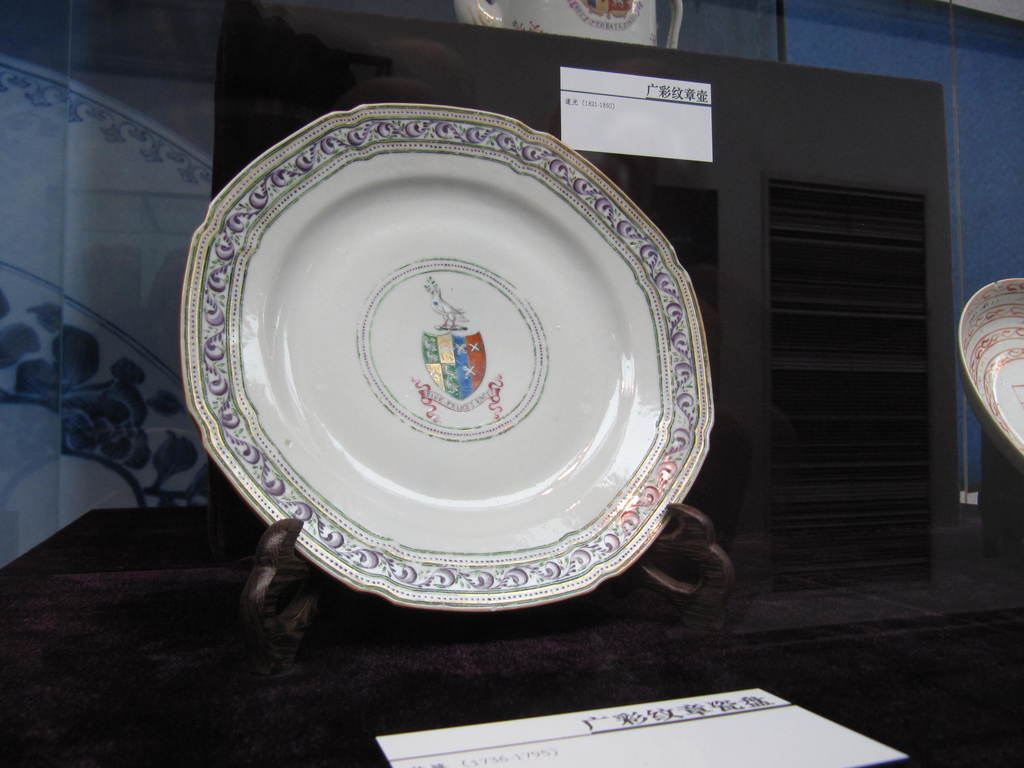plate: (957, 271, 1023, 485)
